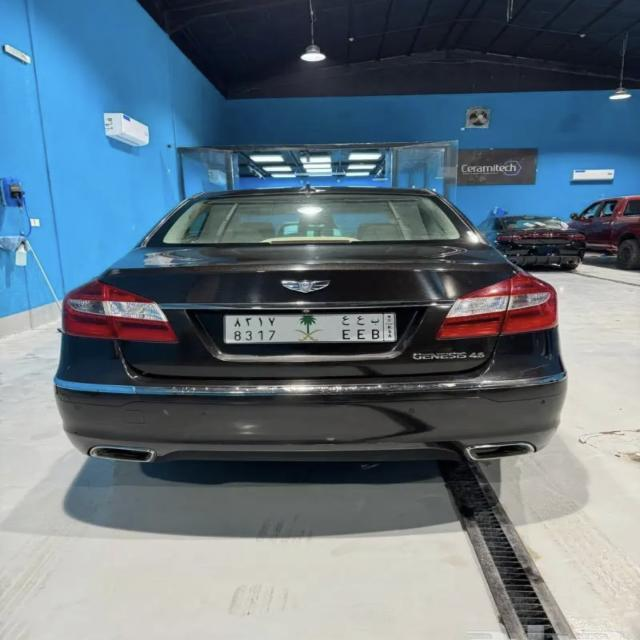license_plate: (225, 314, 398, 346)
